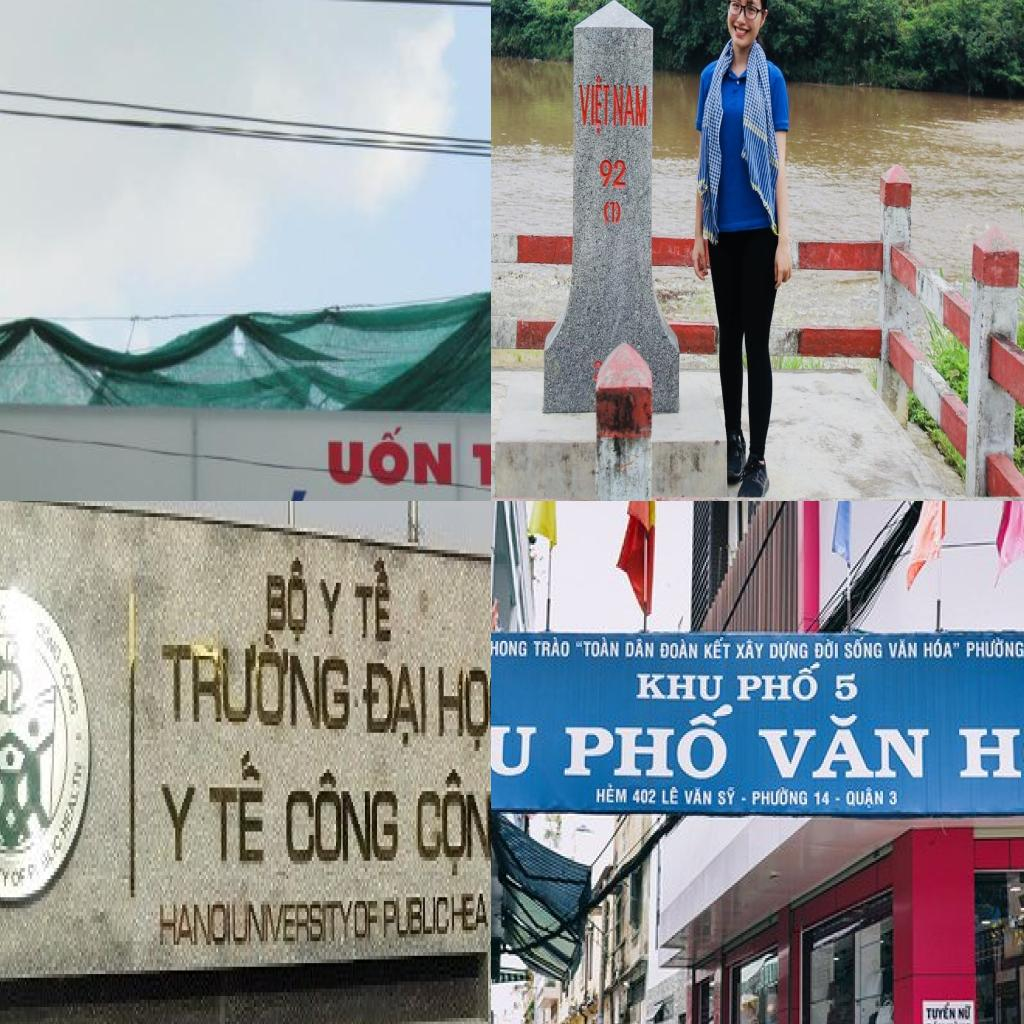text: (160, 623, 353, 733), (558, 704, 738, 784), (756, 710, 934, 781), (285, 769, 401, 868), (324, 420, 456, 490), (416, 769, 491, 882), (209, 751, 266, 864), (362, 660, 428, 751), (233, 901, 355, 948), (436, 663, 491, 754), (954, 713, 1024, 779), (264, 554, 310, 652), (734, 662, 824, 705), (353, 557, 394, 645), (160, 901, 233, 948), (384, 894, 452, 941), (160, 784, 197, 864), (491, 723, 540, 779), (635, 672, 726, 702), (59, 758, 86, 854), (577, 74, 611, 136), (612, 80, 650, 130), (57, 656, 85, 722), (33, 612, 66, 667), (450, 890, 491, 934), (319, 576, 346, 642), (465, 430, 491, 493), (965, 635, 1024, 660), (751, 783, 809, 806), (576, 634, 622, 660), (842, 635, 884, 662), (844, 785, 886, 812), (598, 156, 628, 190), (355, 901, 380, 941), (770, 639, 810, 664), (658, 637, 700, 660), (732, 635, 766, 662), (923, 637, 962, 660), (832, 674, 861, 704), (925, 1000, 959, 1024), (534, 636, 571, 658), (622, 637, 656, 660), (703, 635, 734, 660), (594, 783, 630, 804), (491, 639, 529, 658), (888, 637, 918, 660), (813, 637, 840, 660), (683, 787, 712, 808), (661, 783, 681, 808), (632, 787, 658, 806), (717, 785, 737, 808), (11, 864, 28, 890), (812, 789, 832, 808), (957, 1002, 973, 1023), (0, 601, 9, 634), (946, 1019, 974, 1024)
